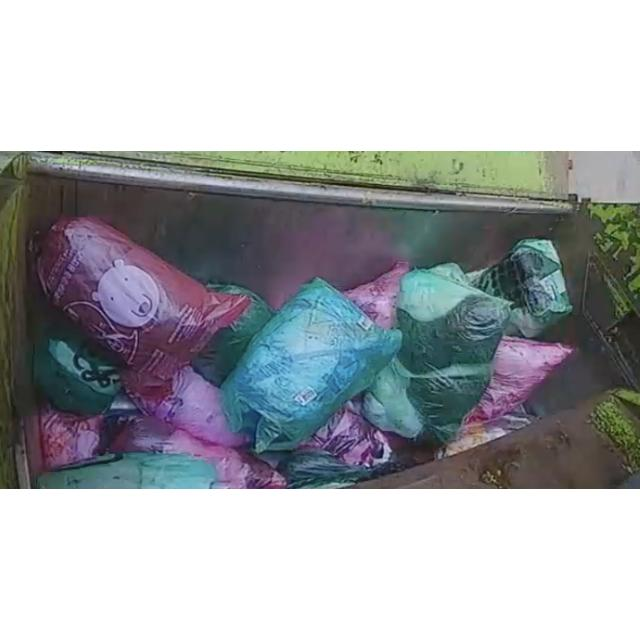general_trashbag: (221, 278, 401, 452), (364, 264, 510, 443), (468, 238, 572, 338), (34, 338, 121, 415), (36, 454, 219, 490)
other_trashbag: (39, 217, 250, 394), (122, 366, 249, 447), (464, 336, 574, 425)
